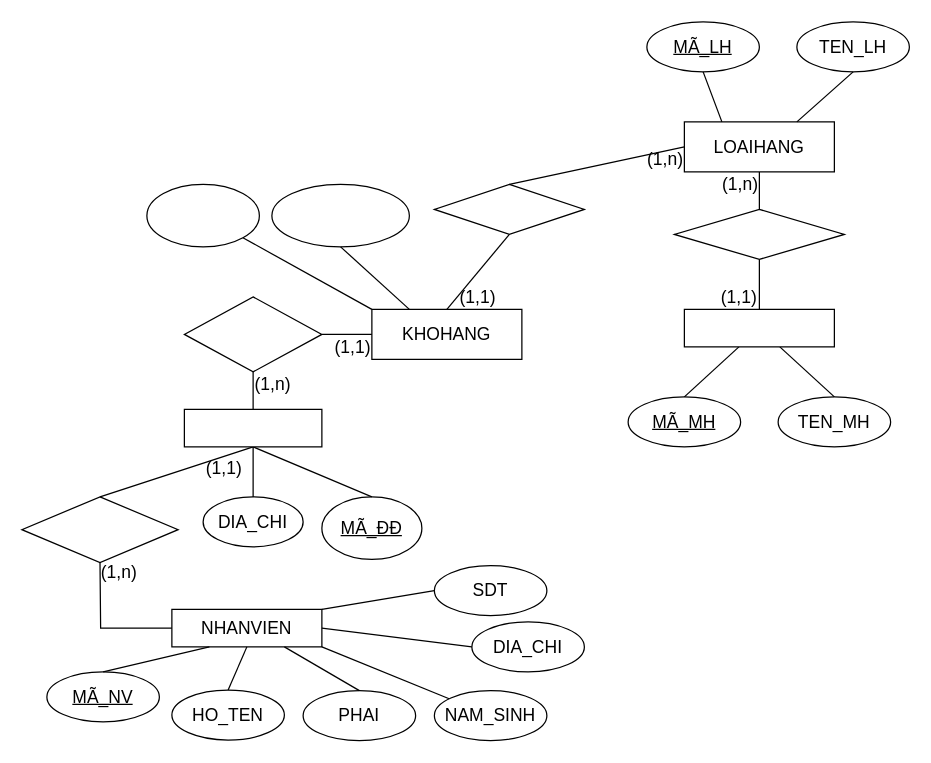
This 931x763 diagram has some shape labels left out. The centre of each missing label's shape, as x and y in pixels:
"DIADIEM" goes at (252,427).
"Kho_chứa" goes at (508,208).
"MATHANG" goes at (758,327).
"MÃ_KHO" goes at (202,215).
"Phụ_trách_bởi" goes at (99,529).
"TEN_KHO" goes at (340,215).
"Thuộc" goes at (758,233).
"Địa_điểm" goes at (252,334).
